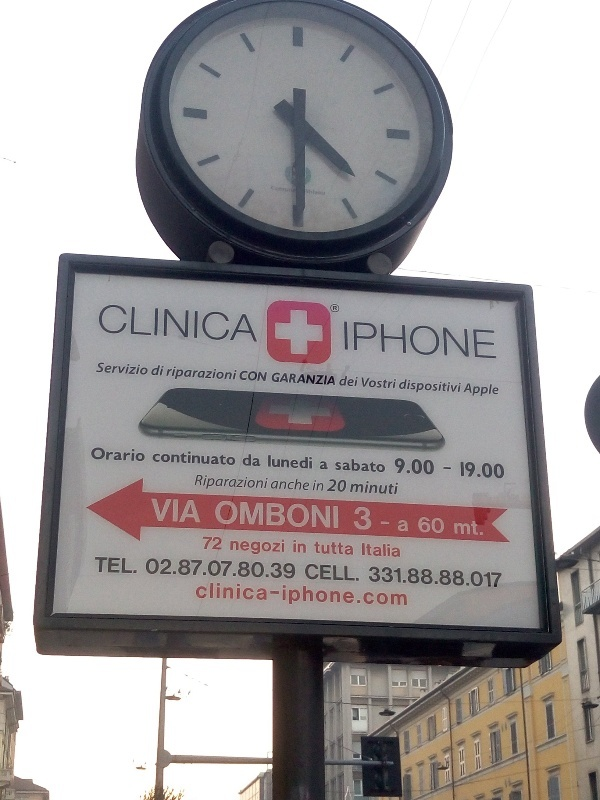text: (481, 319, 497, 359), (353, 319, 368, 359), (369, 319, 384, 359), (385, 319, 400, 359), (401, 319, 416, 359), (417, 319, 432, 359), (433, 319, 448, 359), (449, 319, 464, 359), (465, 319, 480, 359), (113, 304, 128, 343), (129, 304, 144, 343), (145, 304, 160, 343), (161, 304, 176, 343), (177, 304, 192, 343), (193, 304, 208, 343), (209, 304, 224, 343), (225, 304, 240, 343), (241, 304, 256, 343), (100, 304, 112, 343), (225, 501, 240, 529), (241, 501, 256, 529), (257, 501, 272, 529), (273, 501, 288, 529), (289, 501, 304, 529), (305, 501, 320, 529), (321, 501, 336, 529), (161, 498, 176, 523), (177, 498, 192, 523), (354, 506, 368, 531), (344, 319, 352, 359), (161, 558, 177, 575), (401, 378, 416, 396), (417, 378, 432, 396), (433, 378, 448, 396), (401, 458, 416, 476), (417, 458, 432, 476), (465, 461, 480, 479), (481, 461, 496, 479), (305, 564, 320, 582), (321, 564, 336, 582), (337, 564, 352, 582), (241, 537, 256, 555), (257, 537, 272, 555), (209, 582, 224, 600), (225, 582, 240, 600), (241, 582, 256, 600), (289, 586, 304, 604), (305, 586, 320, 604), (321, 586, 336, 604), (337, 586, 352, 604), (177, 365, 192, 382), (193, 365, 208, 382), (209, 365, 224, 382), (209, 475, 224, 492), (225, 475, 240, 492), (241, 475, 256, 492), (369, 566, 384, 583), (385, 566, 400, 583), (417, 568, 432, 585), (449, 569, 464, 586), (481, 571, 496, 588), (209, 561, 224, 578), (241, 561, 256, 578), (273, 562, 288, 579), (97, 557, 112, 574), (113, 557, 128, 574), (129, 447, 145, 462), (385, 543, 401, 558), (146, 558, 160, 575), (193, 559, 207, 576), (419, 516, 432, 534), (481, 382, 496, 397), (97, 447, 112, 462), (113, 447, 128, 462), (161, 450, 176, 465), (177, 450, 192, 465), (193, 450, 208, 465), (209, 450, 224, 465), (353, 480, 368, 495), (369, 480, 384, 495), (151, 498, 160, 523), (465, 520, 480, 535), (369, 543, 384, 558), (216, 501, 224, 529), (337, 541, 353, 555), (449, 378, 461, 396), (273, 537, 285, 555), (113, 362, 128, 376), (129, 362, 144, 376), (273, 455, 288, 469), (289, 455, 304, 469), (337, 459, 352, 473), (353, 459, 368, 473), (369, 459, 384, 473), (385, 480, 399, 495), (321, 541, 336, 555), (225, 365, 237, 382), (180, 559, 192, 576), (257, 561, 269, 578), (193, 498, 201, 523), (433, 516, 444, 534), (197, 582, 208, 600), (273, 372, 288, 385), (289, 372, 304, 385), (305, 372, 320, 385), (321, 372, 336, 385), (369, 377, 384, 390), (369, 592, 384, 605), (385, 592, 400, 605), (197, 475, 208, 492), (257, 475, 268, 492), (225, 561, 236, 578), (99, 362, 112, 376), (209, 536, 222, 550), (241, 370, 256, 382), (468, 382, 480, 397), (273, 479, 288, 491), (289, 479, 304, 491), (257, 582, 267, 600), (243, 454, 256, 467), (225, 450, 236, 465), (231, 537, 240, 555), (385, 377, 397, 390), (337, 479, 348, 493), (471, 571, 480, 588), (454, 520, 464, 535), (497, 461, 505, 479), (408, 568, 416, 585), (440, 569, 448, 586), (129, 557, 137, 574), (294, 540, 304, 553), (353, 586, 360, 604), (341, 376, 352, 387), (257, 370, 267, 382), (169, 365, 176, 382), (289, 562, 296, 579), (353, 564, 359, 582), (273, 186, 288, 193), (305, 189, 320, 196), (153, 450, 160, 465), (497, 571, 503, 588), (305, 455, 312, 469), (395, 458, 400, 476), (362, 543, 368, 558), (283, 586, 288, 604), (401, 566, 406, 583), (433, 568, 438, 585), (465, 569, 470, 586), (330, 479, 336, 493), (401, 520, 408, 532), (362, 377, 368, 390), (401, 592, 407, 605), (369, 506, 372, 531), (321, 461, 329, 470), (305, 479, 311, 491), (203, 536, 208, 550), (315, 541, 320, 555), (154, 365, 160, 376), (92, 447, 96, 462), (315, 480, 320, 492), (145, 362, 149, 376), (268, 455, 272, 469), (337, 501, 339, 529), (353, 376, 358, 387), (461, 461, 464, 479), (257, 454, 261, 467), (364, 592, 368, 605), (289, 186, 296, 193), (321, 480, 325, 492), (331, 304, 336, 313), (161, 365, 165, 376), (257, 304, 258, 343), (433, 458, 435, 476), (321, 189, 326, 196), (497, 382, 499, 397), (481, 520, 483, 535), (273, 590, 279, 595), (337, 304, 340, 313), (385, 521, 390, 525), (239, 561, 240, 578), (95, 557, 96, 574), (444, 467, 448, 471), (385, 459, 386, 473), (305, 540, 306, 553), (381, 521, 384, 525), (399, 520, 400, 532), (449, 467, 451, 471), (271, 590, 272, 595)
